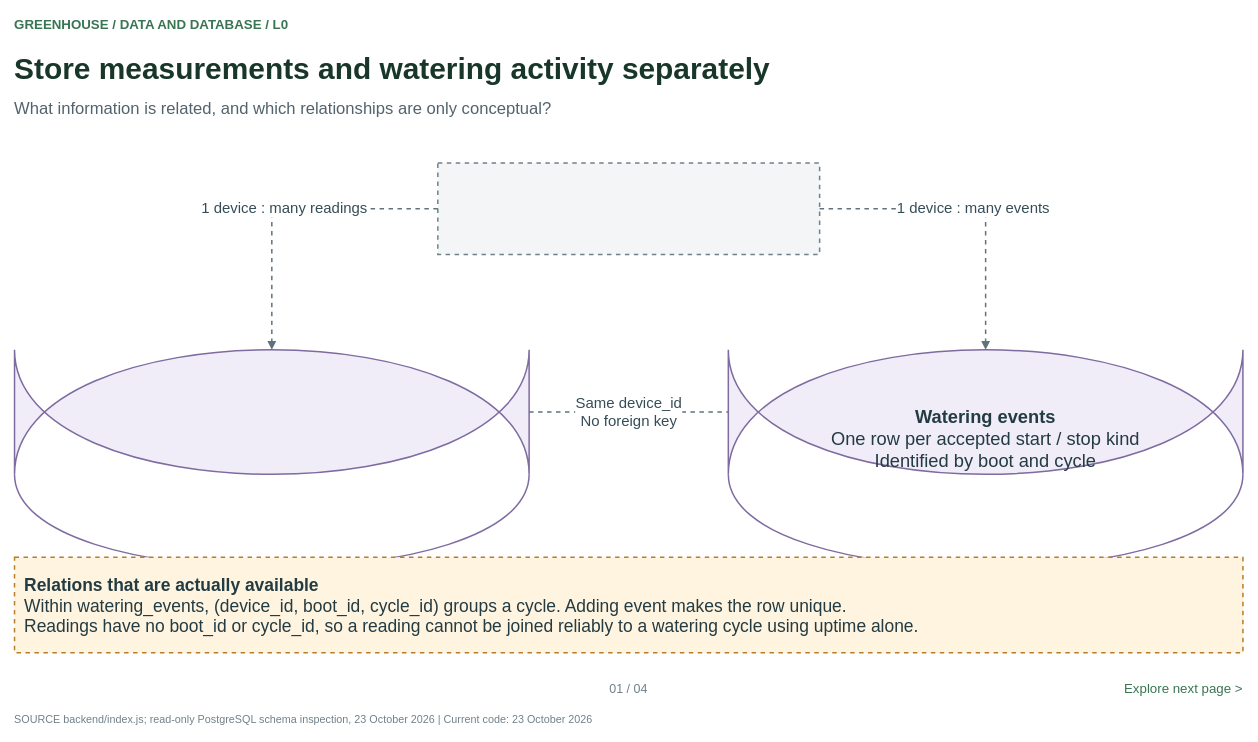
Image size: 1258x742. Some labels were removed from this diagram. The centre of each missing label's shape, as x and y in pixels:
Device 01 Conceptual identity No devices table exists: the point at 628,208
Readings One row per accepted telemetry message Snapshot of measured conditions: the point at 271,412
